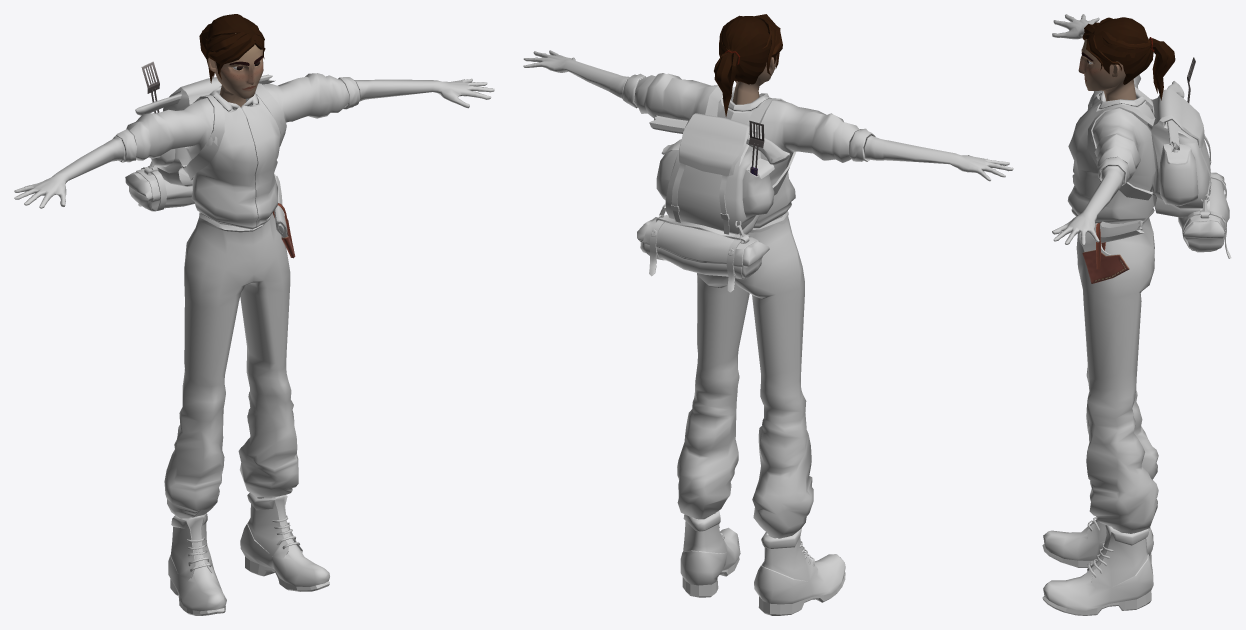
File: ljackmesh01.fbx
The picture shows the model from 3 angles, left to right: view 1: azimuth 30°, elevation 25°; view 2: azimuth 150°, elevation 25°; view 3: azimuth 270°, elevation 25°; orthographic projection. The views are drawn at different scales.
Visible parts, largest first — view 1: LjackHead01; view 2: LjackHead01; view 3: LjackHead01.
Boxes of the visible parts, x1=… form: LjackHead01: x1=14, y1=14, x2=494, y2=615; LjackHead01: x1=523, y1=14, x2=1013, y2=615; LjackHead01: x1=1042, y1=14, x2=1231, y2=615.
Size of the model in its own units: 20.9 by 23.89 by 7.25.
